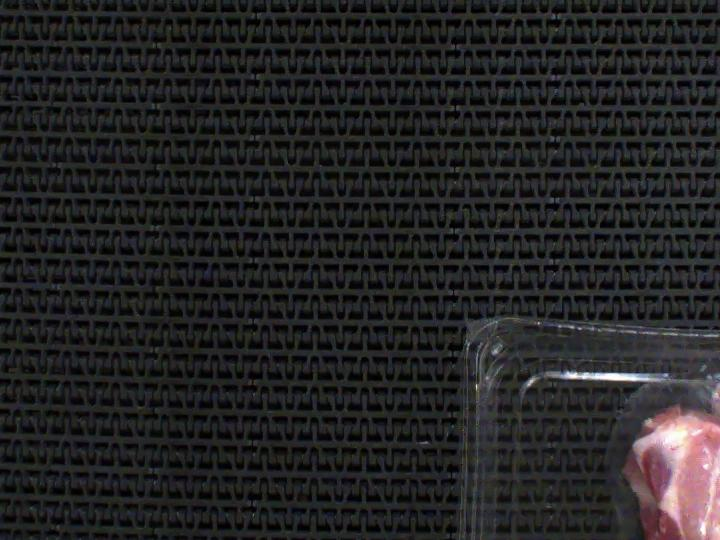unsealed: (625, 343, 720, 540)
